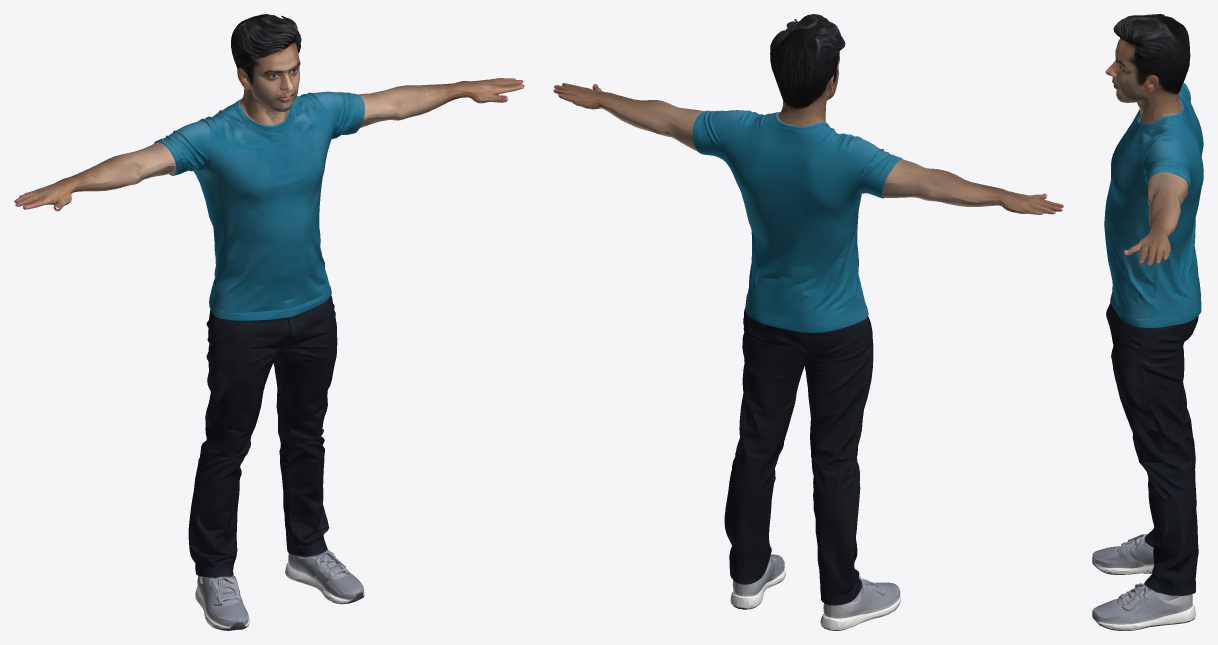
File: hyper3d-indian-man-tpose-reference.glb
3 renders of one model, left to right at view 1: azimuth 30°, elevation 25°; view 2: azimuth 150°, elevation 25°; view 3: azimuth 270°, elevation 25°, orthographic.
Visible parts, largest first — view 1: model; view 2: model; view 3: model.
Part boxes in pixels (<box>): model: <box>14,14,524,630</box>; model: <box>553,14,1063,630</box>; model: <box>1092,14,1203,630</box>.
Bounding box in the file's own units: 1.73 × 1.9 × 0.3317.
1 material, 1 textured.
